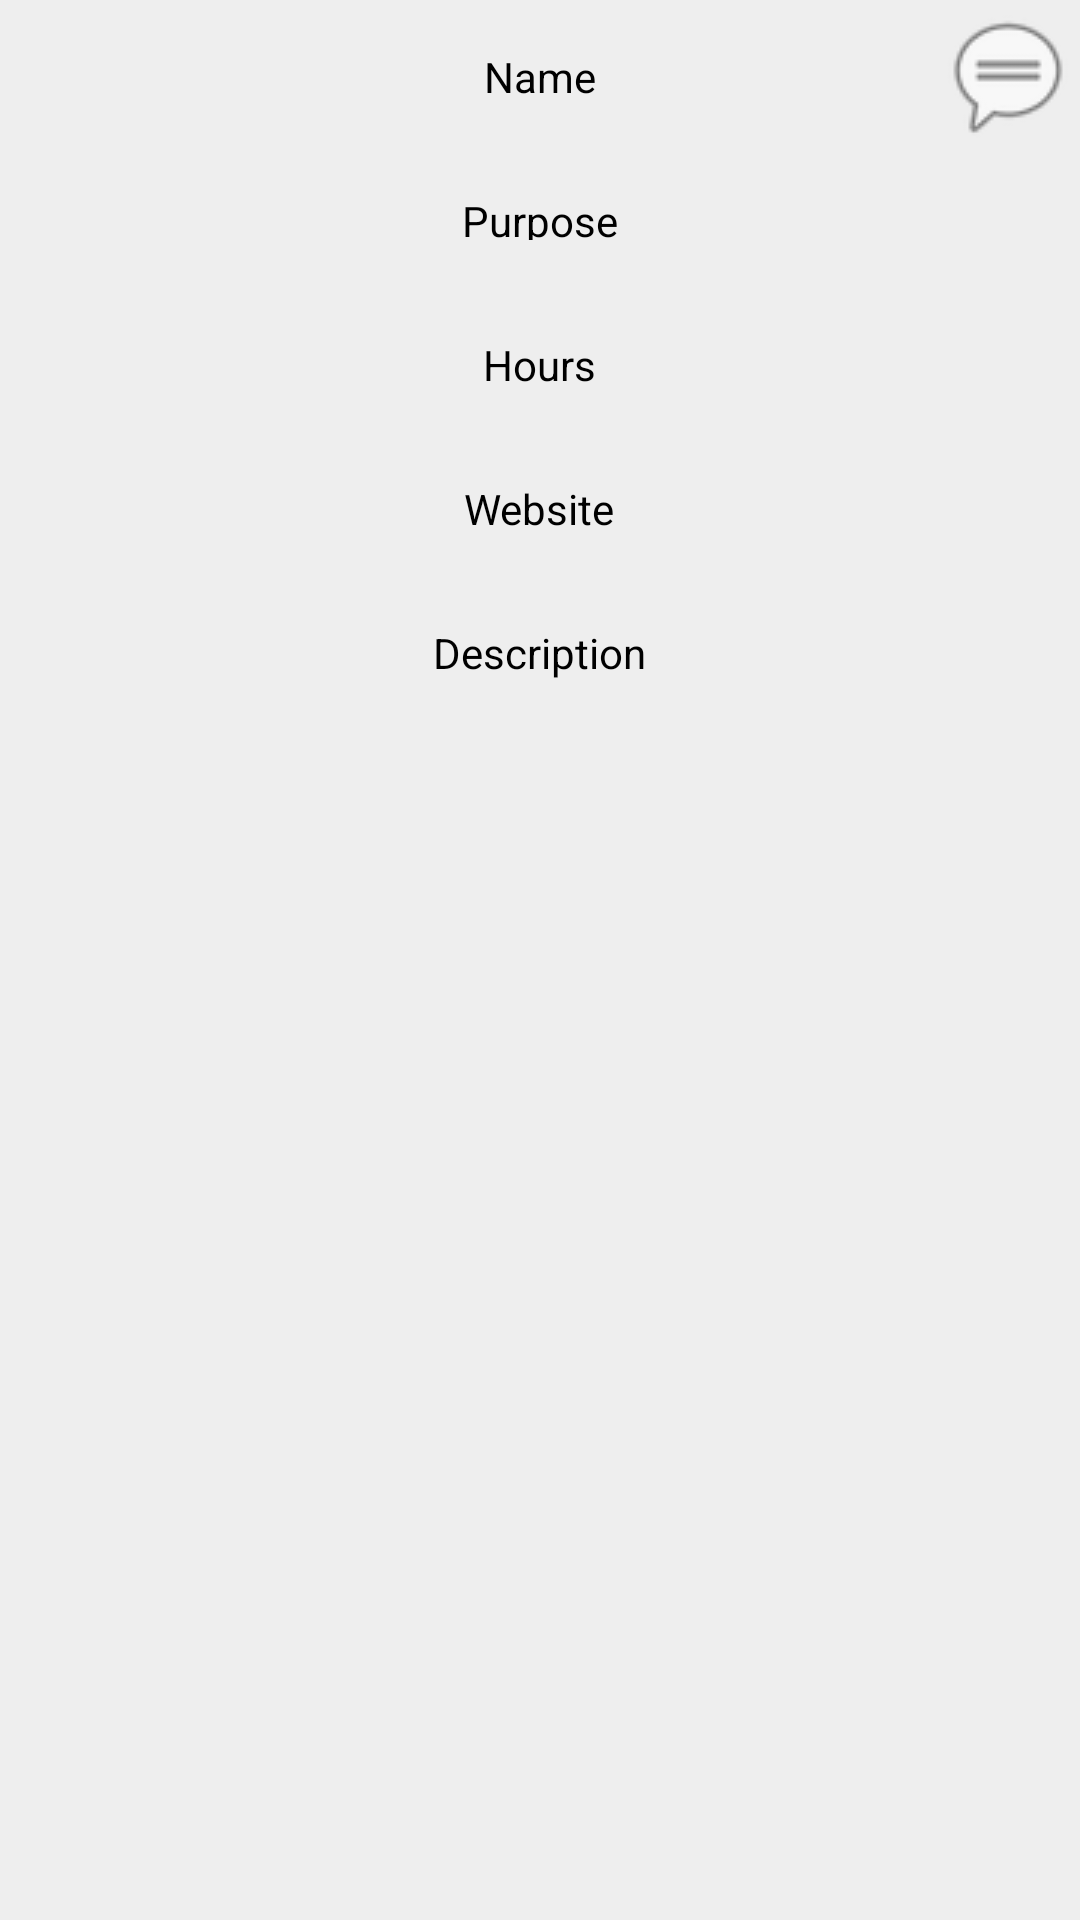

Where icons sit on this 1080px×1920px app screen, as (x1, y1, x2, y2):
Feedback: (954, 23, 1062, 133)
